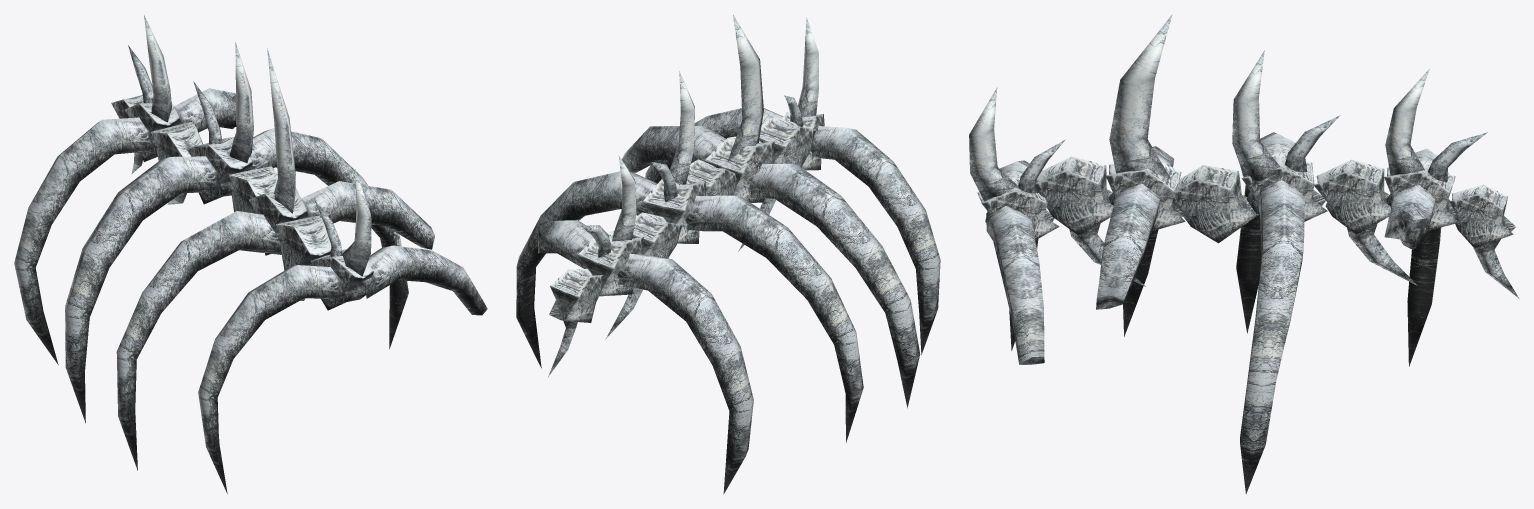
File: ice_dragonbone_02.glb
3 views of the same model, side by side, from view 1: azimuth 30°, elevation 25°; view 2: azimuth 150°, elevation 25°; view 3: azimuth 270°, elevation 25° (orthographic). The views are drawn at different scales.
Parts seen in each view (by area): view 1: ice_dragonbone_02; view 2: ice_dragonbone_02; view 3: ice_dragonbone_02.
Boxes of the visible parts, box(x1,y1,x2,y2) form: ice_dragonbone_02: box(14, 15, 487, 493); ice_dragonbone_02: box(516, 15, 940, 494); ice_dragonbone_02: box(969, 14, 1519, 494).
Bounding box in the file's own units: 14.68 × 15.36 × 18.86.
Materials: 1 (1 with a texture image).
